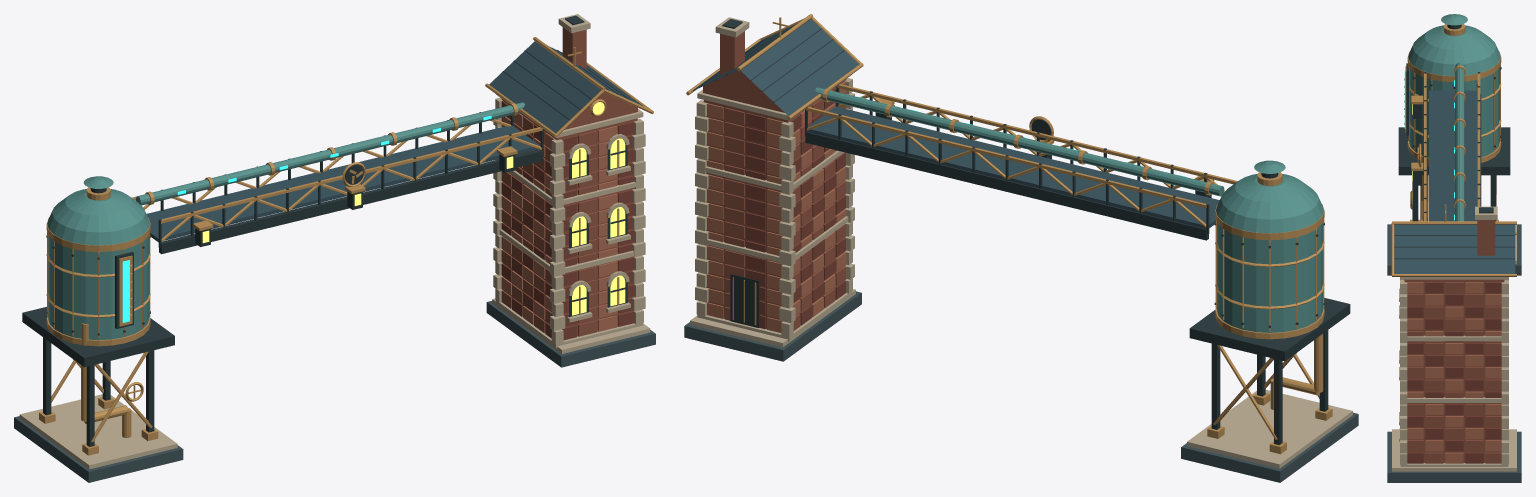
File: landmark-unbaked.glb
The picture shows the model from 3 angles, left to right: view 1: azimuth 30°, elevation 25°; view 2: azimuth 150°, elevation 25°; view 3: azimuth 270°, elevation 25°; orthographic projection. The views are drawn at different scales.
Visible parts, largest first — view 1: stone_limestone, copper_aged, iron_graphite, roof_slate, brass_trim, tower_brick, brick_dark, brick_warm, foundation_basalt, windows_power, water_core; view 2: copper_aged, stone_limestone, roof_slate, brass_trim, iron_graphite, tower_brick, brick_warm, brick_dark, foundation_basalt; view 3: roof_slate, tower_brick, copper_aged, stone_limestone, brick_dark, brick_warm, brass_trim, iron_graphite, foundation_basalt.
Part boxes in pixels (box(x1,y1,x2,y2)): stone_limestone: box(19, 14, 650, 469); copper_aged: box(47, 102, 524, 340); iron_graphite: box(22, 15, 630, 446); roof_slate: box(146, 41, 642, 242); brass_trim: box(39, 37, 653, 455); tower_brick: box(501, 27, 637, 336); brick_dark: box(501, 101, 634, 340); brick_warm: box(501, 113, 617, 331); foundation_basalt: box(14, 301, 655, 482); windows_power: box(202, 102, 625, 315); water_core: box(122, 115, 491, 322); copper_aged: box(815, 87, 1323, 332); stone_limestone: box(690, 17, 1352, 468); roof_slate: box(691, 19, 1219, 228); brass_trim: box(686, 14, 1332, 454); iron_graphite: box(704, 19, 1350, 445); tower_brick: box(703, 31, 846, 330); brick_warm: box(707, 81, 845, 332); brick_dark: box(746, 89, 845, 328); foundation_basalt: box(684, 291, 1358, 482); roof_slate: box(1394, 90, 1515, 273); tower_brick: box(1404, 220, 1504, 463); copper_aged: box(1408, 14, 1500, 221); stone_limestone: box(1392, 78, 1516, 471); brick_dark: box(1403, 279, 1501, 463); brick_warm: box(1407, 279, 1505, 463); brass_trim: box(1391, 24, 1516, 276); iron_graphite: box(1394, 24, 1515, 259); foundation_basalt: box(1387, 224, 1521, 482).
Size of the model in its own units: 0.6498 by 0.3182 by 0.148.
